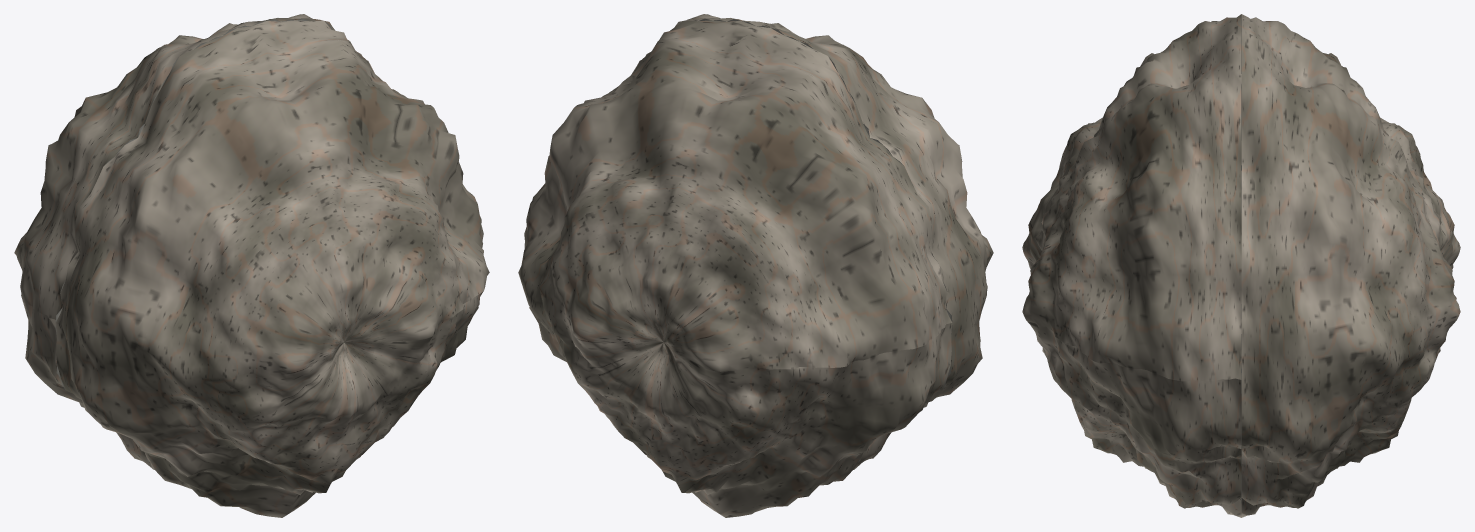
Rendered from white-druse-study-v2.glb.
3 views of the same model, side by side, from view 1: azimuth 30°, elevation 25°; view 2: azimuth 150°, elevation 25°; view 3: azimuth 270°, elevation 25° (orthographic).
Parts seen in each view (by area): view 1: Closed_front, Closed_back; view 2: Closed_back, Closed_front; view 3: Closed_front, Closed_back.
Boxes of the visible parts, x1,y1,x2,y2 form: Closed_front: (55, 20, 489, 517); Closed_back: (14, 14, 383, 469); Closed_back: (518, 20, 952, 517); Closed_front: (613, 14, 993, 469); Closed_front: (1022, 14, 1241, 517); Closed_back: (1241, 14, 1460, 517).
Size of the model in its own units: 3.02 by 3.48 by 2.86.
Materials: 8 (3 with a texture image).
